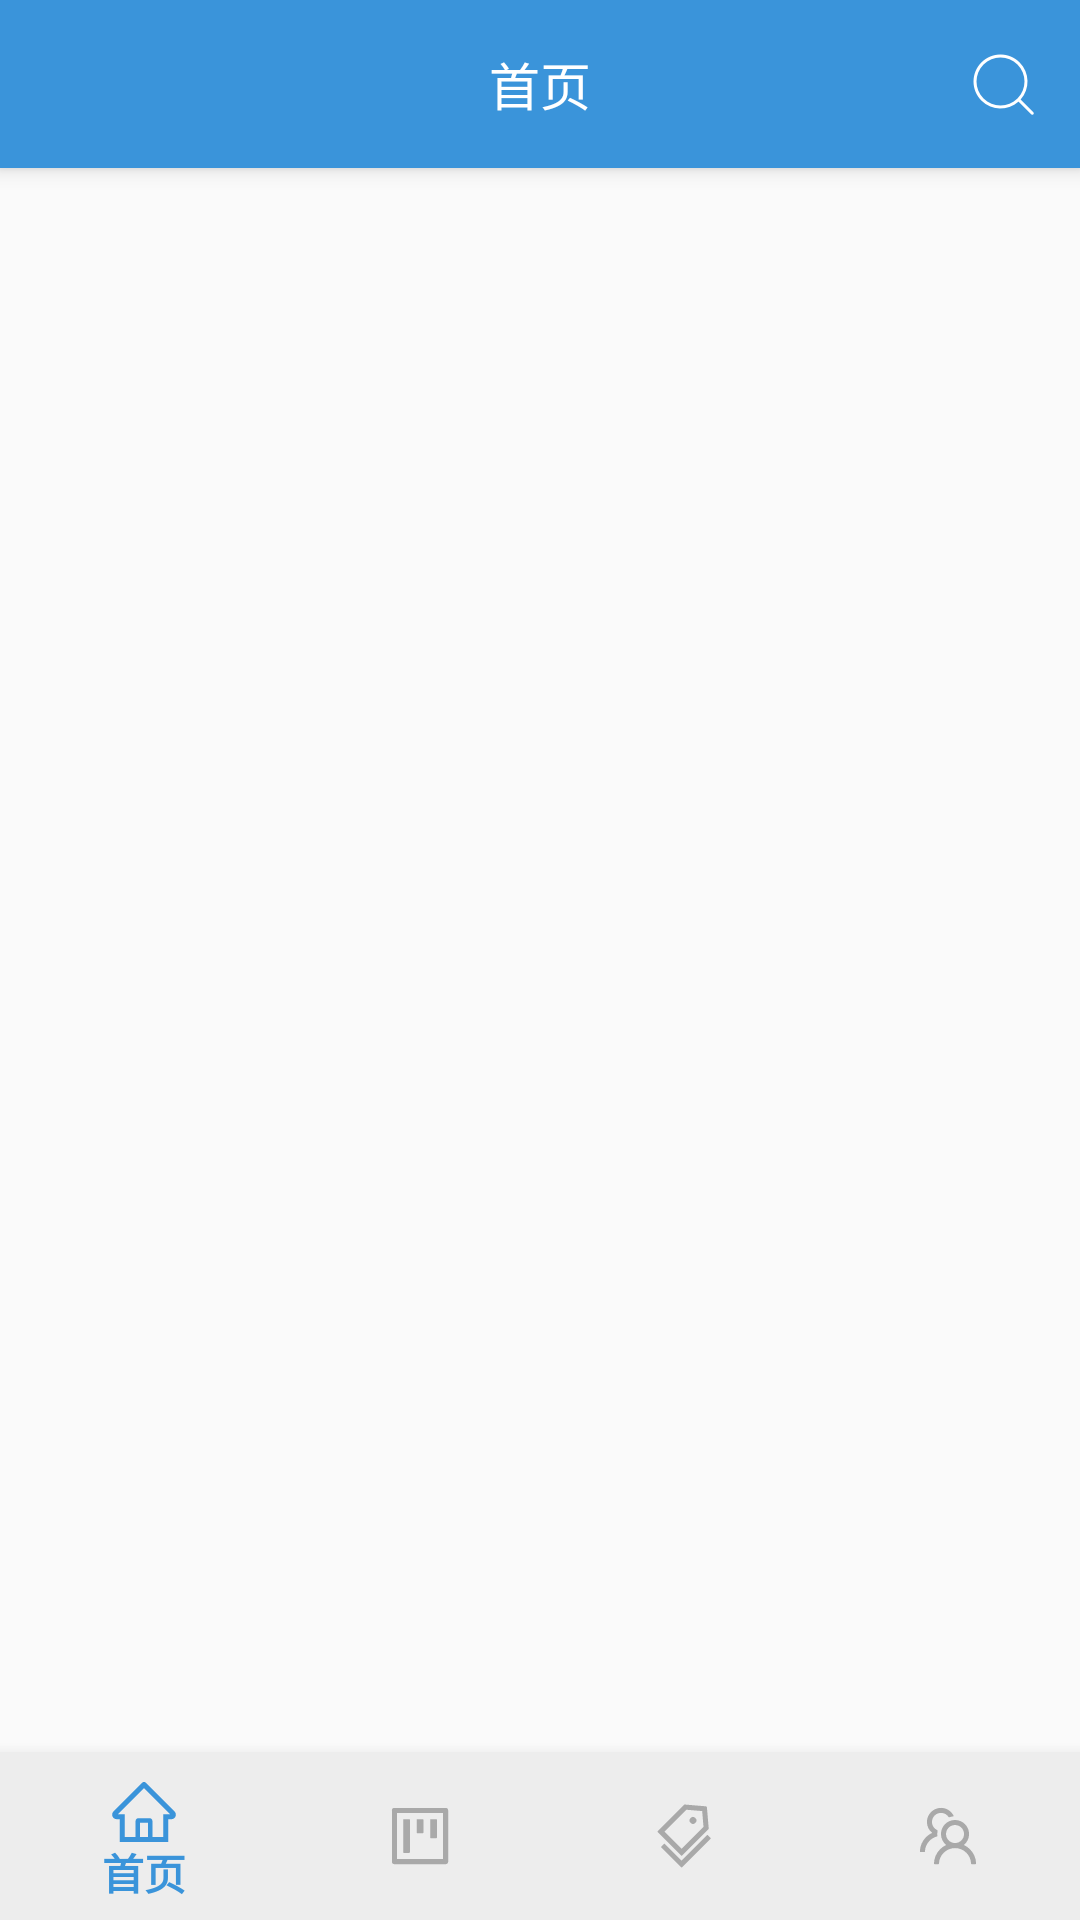

Locate icon controls on the screen. Image size 1080px×1920px, boxes as (x1=x1, y1=y1, x2=x2, y2=y2).
search: (x1=973, y1=54, x2=1034, y2=115)
